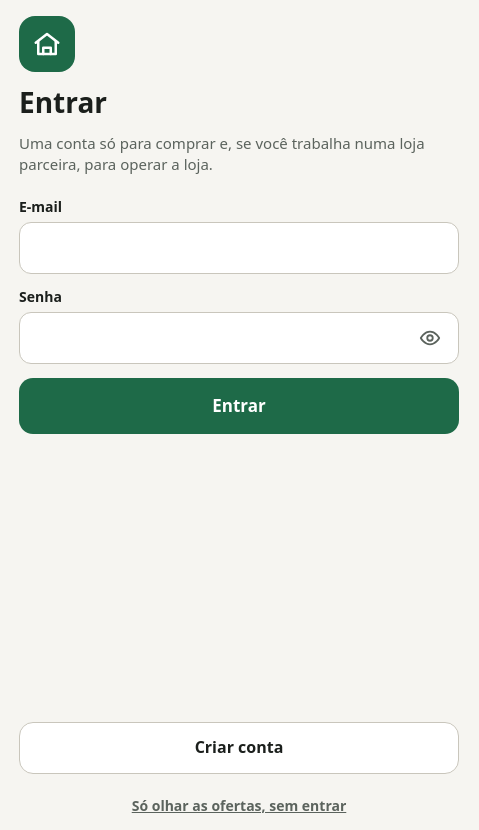
Test: A2 · Entrar (celular) — depois de entrar, sempre a A4 › senha errada → mensagem da API com role="alert" e continua em /entrar
Type "ana@email.com" into the field labelled "E-mail" at point(243, 248), box x1=34 y1=223 x2=452 y2=273
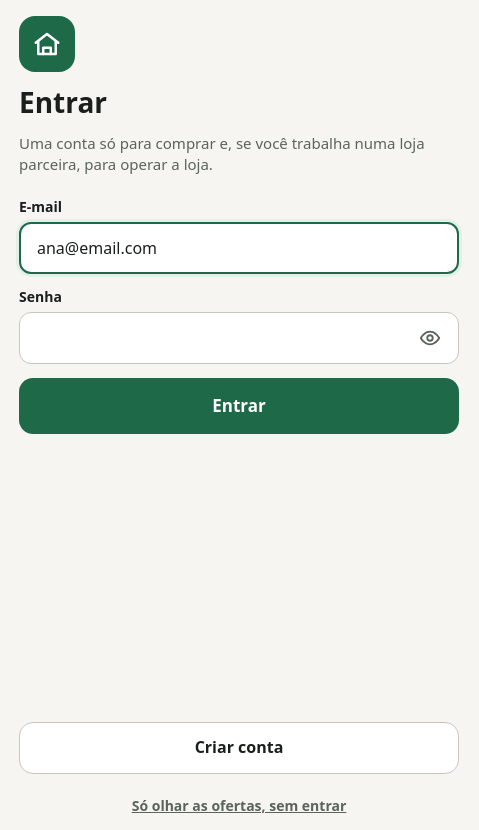
Type "errada123" into the password field labelled "Senha" at point(221, 338), box x1=34 y1=314 x2=408 y2=364
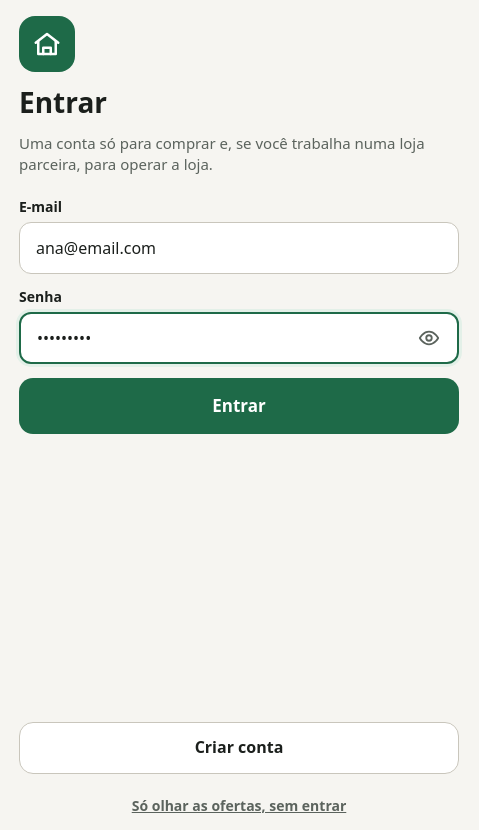
Click the button "Entrar" at point(239, 406), box x1=19 y1=378 x2=459 y2=434
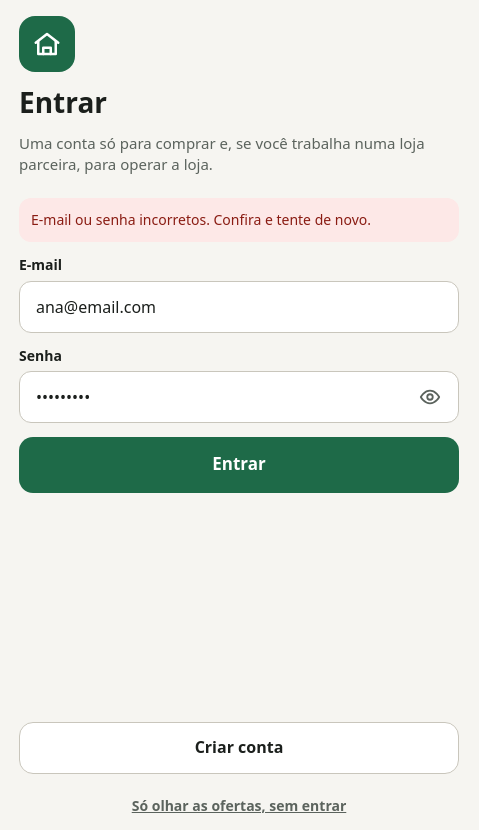
Expected: the message reads "E-mail ou senha incorretos. Confira e tente de novo.", x1=31 y1=210 x2=371 y2=229
